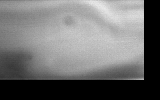cell: (59, 13, 76, 30)
